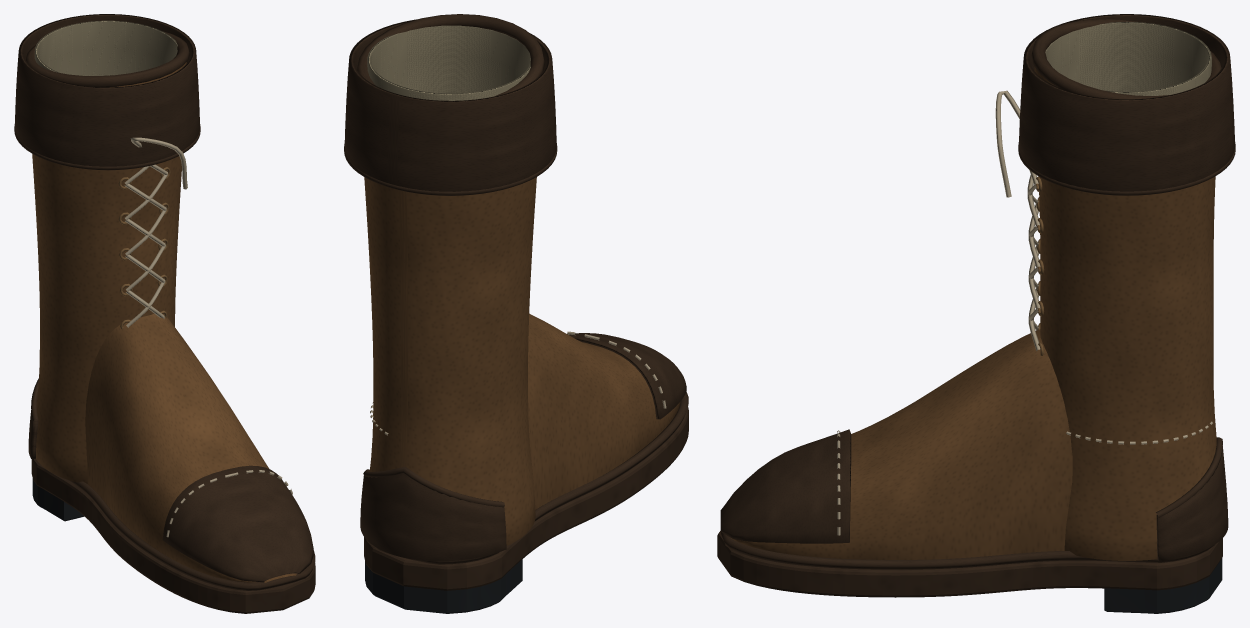
3 views of the same model, side by side, from view 1: azimuth 30°, elevation 25°; view 2: azimuth 150°, elevation 25°; view 3: azimuth 270°, elevation 25° (orthographic). The views are drawn at different scales.
Visible parts, largest first — view 1: tanned leather, oiled strap leather, quilted linen lining, waxed linen thread, recess and lining, aged alloy edge; view 2: tanned leather, oiled strap leather, quilted linen lining, recess and lining; view 3: tanned leather, oiled strap leather, quilted linen lining, recess and lining, waxed linen thread.
Part boxes in pixels (x1=…): tanned leather: x1=32, y1=62, x2=296, y2=582; oiled strap leather: x1=14, y1=14, x2=315, y2=613; quilted linen lining: x1=34, y1=20, x2=177, y2=75; waxed linen thread: x1=124, y1=137, x2=292, y2=537; recess and lining: x1=32, y1=478, x2=84, y2=521; aged alloy edge: x1=118, y1=167, x2=170, y2=329; tanned leather: x1=364, y1=177, x2=680, y2=545; oiled strap leather: x1=344, y1=14, x2=688, y2=590; quilted linen lining: x1=367, y1=25, x2=530, y2=100; recess and lining: x1=365, y1=559, x2=522, y2=613; tanned leather: x1=731, y1=67, x2=1216, y2=560; oiled strap leather: x1=717, y1=14, x2=1235, y2=597; quilted linen lining: x1=1045, y1=21, x2=1211, y2=95; recess and lining: x1=1104, y1=558, x2=1222, y2=613; waxed linen thread: x1=837, y1=90, x2=1212, y2=535.
Bounding box in the file's own units: 0.1174 × 0.3199 × 0.281.
Materials: 6 (5 with a texture image).
